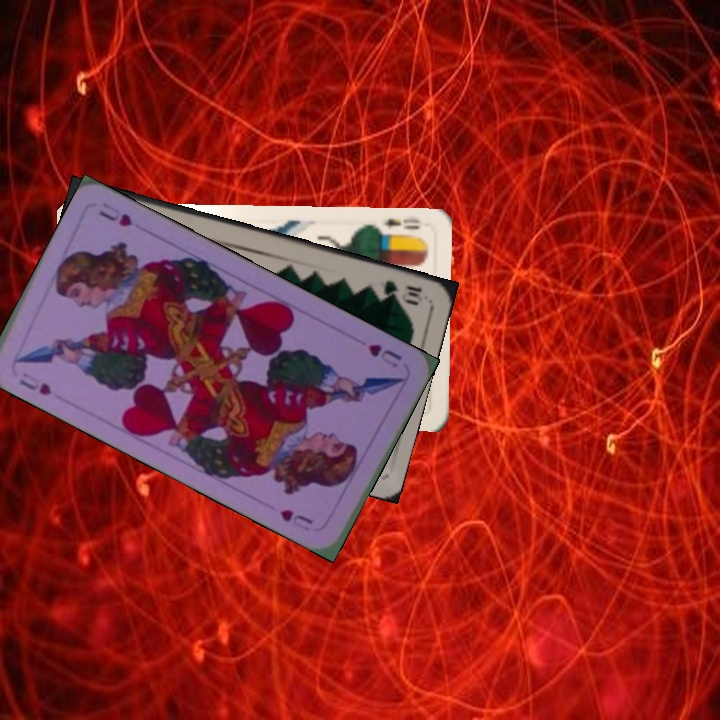EO: (369, 212, 426, 239)
G10: (379, 276, 425, 307)
HU: (363, 340, 404, 371), (15, 368, 55, 398)
